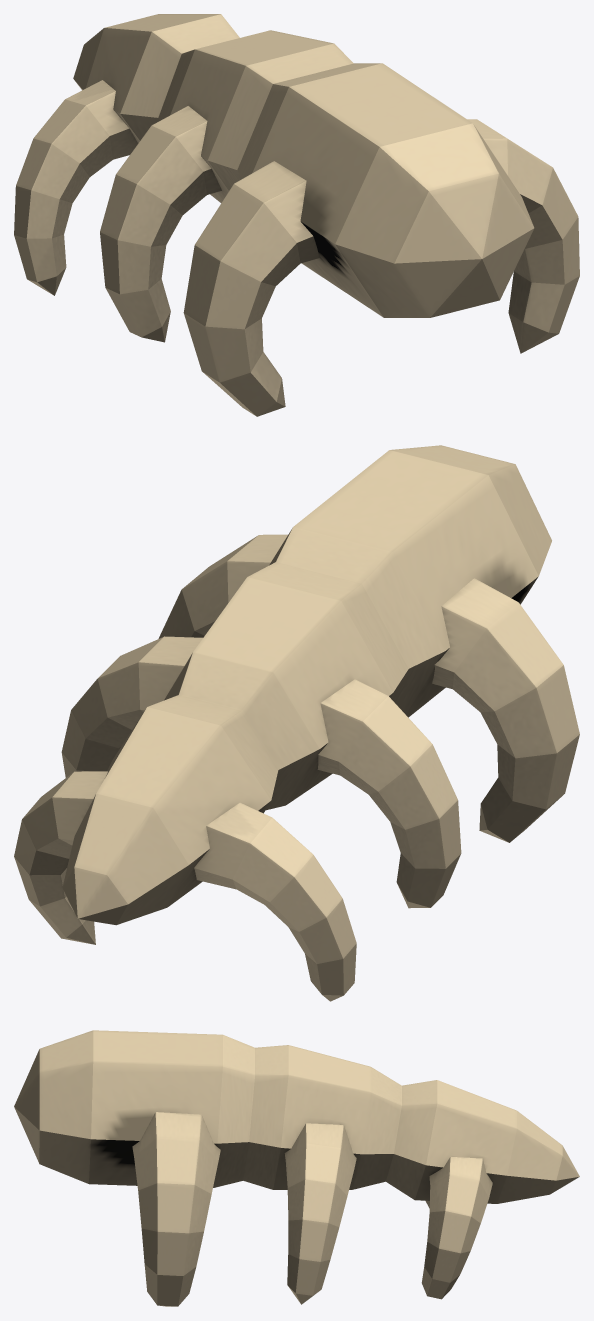
Rendered from SerpentSquelette_Queue.FBX.
The picture shows the model from 3 angles, top to bottom: view 1: azimuth 30°, elevation 25°; view 2: azimuth 150°, elevation 25°; view 3: azimuth 270°, elevation 25°; orthographic projection. The views are drawn at different scales.
Parts seen in each view (by area): view 1: SerpentSquelette_Queue; view 2: SerpentSquelette_Queue; view 3: SerpentSquelette_Queue.
Boxes of the visible parts, x1=… form: SerpentSquelette_Queue: x1=14, y1=14, x2=579, y2=416; SerpentSquelette_Queue: x1=14, y1=445, x2=579, y2=1001; SerpentSquelette_Queue: x1=14, y1=1030, x2=579, y2=1306.
Bounding box in the file's own units: 0.6034 × 0.4642 × 1.1.
